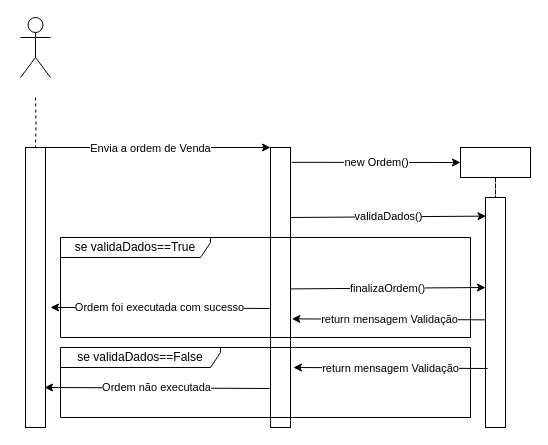
Image size: 548x445. Some labels were removed from this diagram. The centre of each missing label's shape, as x and y in pixels:
Market: [35,47]
Ordem: [495,162]
